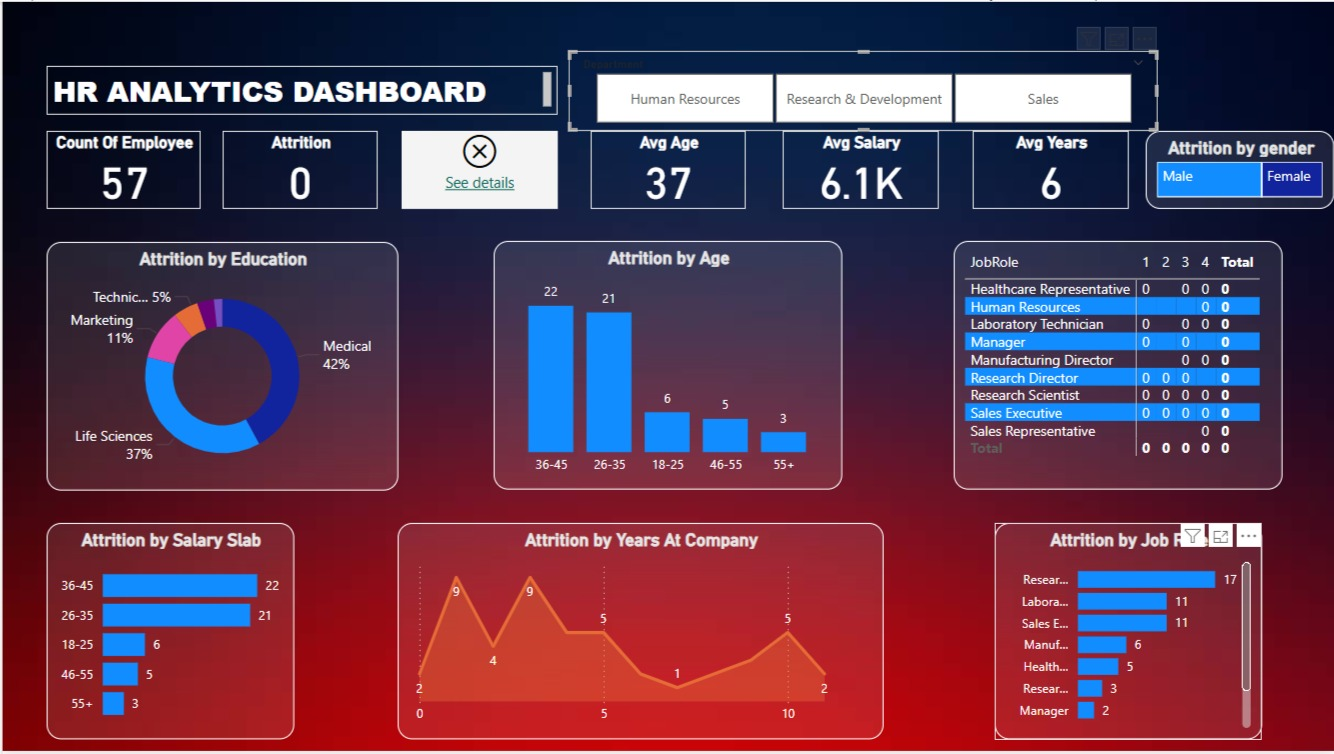

This screenshot's page, from the dashboard's own definition file:
{"tool":"powerbi","page":{"name":"Page 1","canvas":[1280,720],"ordinal":0},"visuals":[{"type":"card","title":"Count Of Employee","fields":{"Values":["CountNonNull(HR_Analytics.EmpID)"]},"box":[42.3,124,148.2,74.6],"z":0},{"type":"card","title":"Attrition","fields":{"Values":["Min(HR_Analytics.AttritiOnCount)"]},"box":[211.7,124,149.2,74.6],"z":1000},{"type":"card","title":"Avg Age","fields":{"Values":["Avg(HR_Analytics.Age)"]},"box":[565.4,124,149.2,74.6],"z":2000},{"type":"card","title":"Count Of Employee","fields":{"Values":["HR_Analytics.AttritionRate"]},"box":[383,124,150.2,74.6],"z":3000},{"type":"card","title":"Avg Years","fields":{"Values":["Avg(HR_Analytics.YearsAtCompany)"]},"box":[932.3,124,150.2,74.6],"z":4000},{"type":"card","title":"Avg Salary","fields":{"Values":["Avg(HR_Analytics.MonthlyIncome)"]},"box":[749.9,124,150.2,74.6],"z":5000},{"type":"donutChart","title":"Attrition by Education","fields":{"Category":["HR_Analytics.EducationField"],"Y":["CountNonNull(HR_Analytics.AttritiOnCount)"]},"box":[42.3,230.8,337.6,238.9],"z":6000},{"type":"columnChart","title":"Attrition by Age","fields":{"Category":["HR_Analytics.AgeGroup"],"Y":["CountNonNull(HR_Analytics.AttritiOnCount)"]},"box":[472,230,335,239],"z":7000},{"type":"pivotTable","fields":{"Rows":["HR_Analytics.JobRole"],"Columns":["HR_Analytics.JobSatisfaction"],"Values":["Min(HR_Analytics.AttritiOnCount)"]},"box":[914,230,316,239],"z":8000},{"type":"barChart","title":"Attrition by Salary Slab","fields":{"Category":["HR_Analytics.AgeGroup"],"Y":["CountNonNull(HR_Analytics.AttritiOnCount)"]},"box":[42.3,500.9,237.9,207.6],"z":9000},{"type":"barChart","title":"Attrition by Job Role","fields":{"Category":["HR_Analytics.JobRole"],"Y":["CountNonNull(HR_Analytics.AttritiOnCount)"]},"box":[953,501,257,208],"z":10000},{"type":"areaChart","title":"Attrition by Years At Company","fields":{"Category":["HR_Analytics.YearsAtCompany"],"Y":["CountNonNull(HR_Analytics.AttritiOnCount)"]},"box":[380,500.9,466.6,207.6],"z":11000},{"type":"treemap","title":"Attrition by gender","fields":{"Group":["HR_Analytics.Gender"],"Values":["CountNonNull(HR_Analytics.AttritiOnCount)"]},"box":[1098.6,124,181.4,74.6],"z":12000},{"type":"slicer","fields":{"Values":["HR_Analytics.Department"]},"box":[544,47,566,77],"z":13000},{"type":"textbox","box":[42.3,61.5,490.8,47.4],"z":13001}]}

Visuals, with their boxes in screenshot pixels (x1, y1, x2, y2), scaled from the page's 1280x720 canvas onto the 1334x754 screenshot:
"Count Of Employee" card: 44:130:199:208
"Attrition" card: 221:130:376:208
"Avg Age" card: 589:130:745:208
"Count Of Employee" card: 399:130:556:208
"Avg Years" card: 972:130:1128:208
"Avg Salary" card: 782:130:938:208
"Attrition by Education" donutChart: 44:242:396:492
"Attrition by Age" columnChart: 492:241:841:491
pivotTable - HR_Analytics.JobRole x HR_Analytics.JobSatisfaction: 953:241:1282:491
"Attrition by Salary Slab" barChart: 44:525:292:742
"Attrition by Job Role" barChart: 993:525:1261:742
"Attrition by Years At Company" areaChart: 396:525:882:742
"Attrition by gender" treemap: 1145:130:1333:208
slicer - HR_Analytics.Department: 567:49:1157:130
textbox: 44:64:556:114
